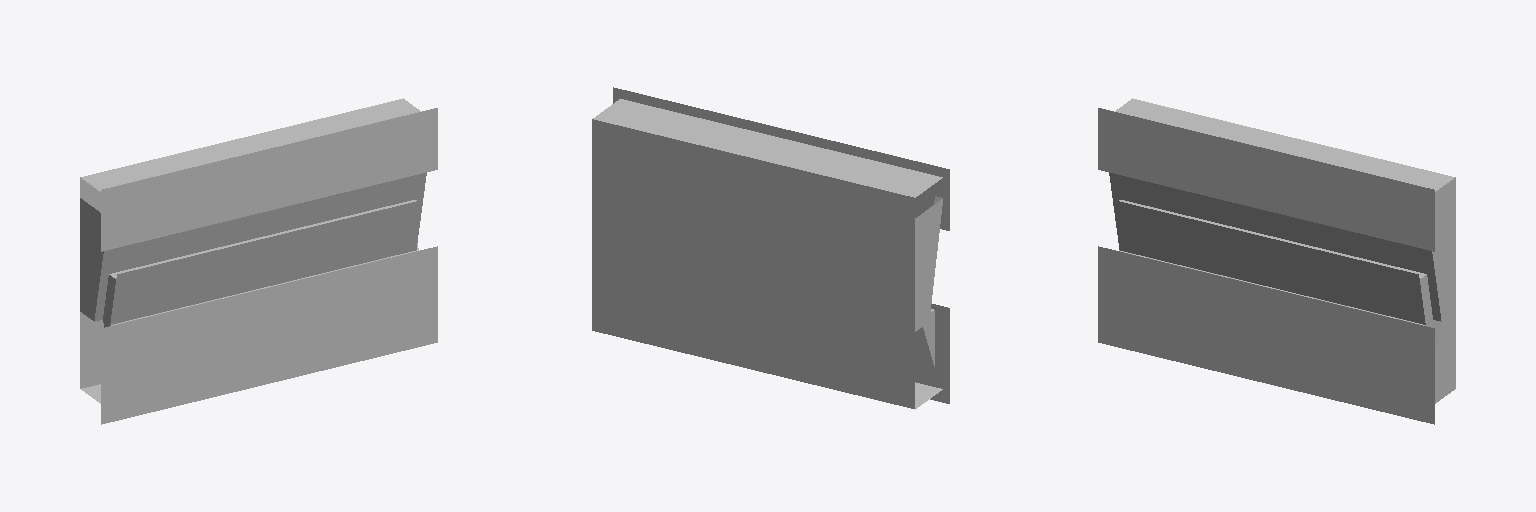
3 views of the same model, side by side, from view 1: azimuth 30°, elevation 25°; view 2: azimuth 150°, elevation 25°; view 3: azimuth 330°, elevation 25° (orthographic).
Parts seen in each view (by area): view 1: GenericCeiling_80, WhiteInteriorWall_70, GenericFloor_20, Glazing_DoublePane_LowE_65; view 2: GenericFloor_20, WhiteInteriorWall_70, GenericCeiling_80, Glazing_DoublePane_LowE_65; view 3: GenericCeiling_80, WhiteInteriorWall_70, Glazing_DoublePane_LowE_65.
Boxes of the visible parts, x1,y1,x2,y2 form: GenericCeiling_80: [101, 108, 437, 424]; WhiteInteriorWall_70: [80, 98, 426, 403]; GenericFloor_20: [80, 177, 103, 388]; Glazing_DoublePane_LowE_65: [96, 106, 424, 324]; GenericFloor_20: [592, 119, 914, 408]; WhiteInteriorWall_70: [593, 99, 942, 409]; GenericCeiling_80: [613, 87, 949, 403]; Glazing_DoublePane_LowE_65: [608, 106, 856, 168]; GenericCeiling_80: [1098, 108, 1434, 424]; WhiteInteriorWall_70: [1109, 98, 1455, 403]; Glazing_DoublePane_LowE_65: [1111, 106, 1439, 344].
Bounding box in the file's own units: 41.84 × 27.86 × 6.06.